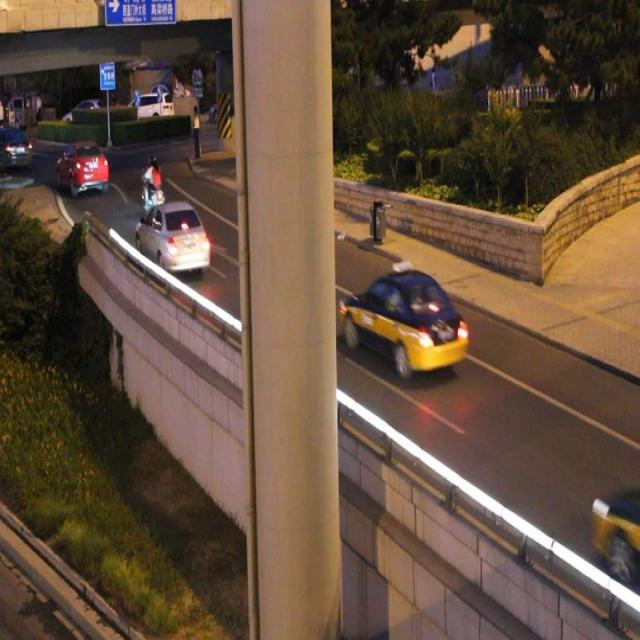car: (343, 270, 465, 372), (138, 200, 208, 273), (591, 493, 640, 576), (57, 144, 108, 194)
